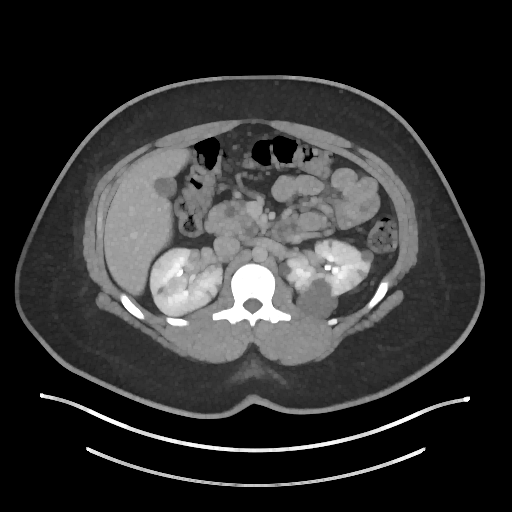Lesion: (184, 247, 200, 266)
